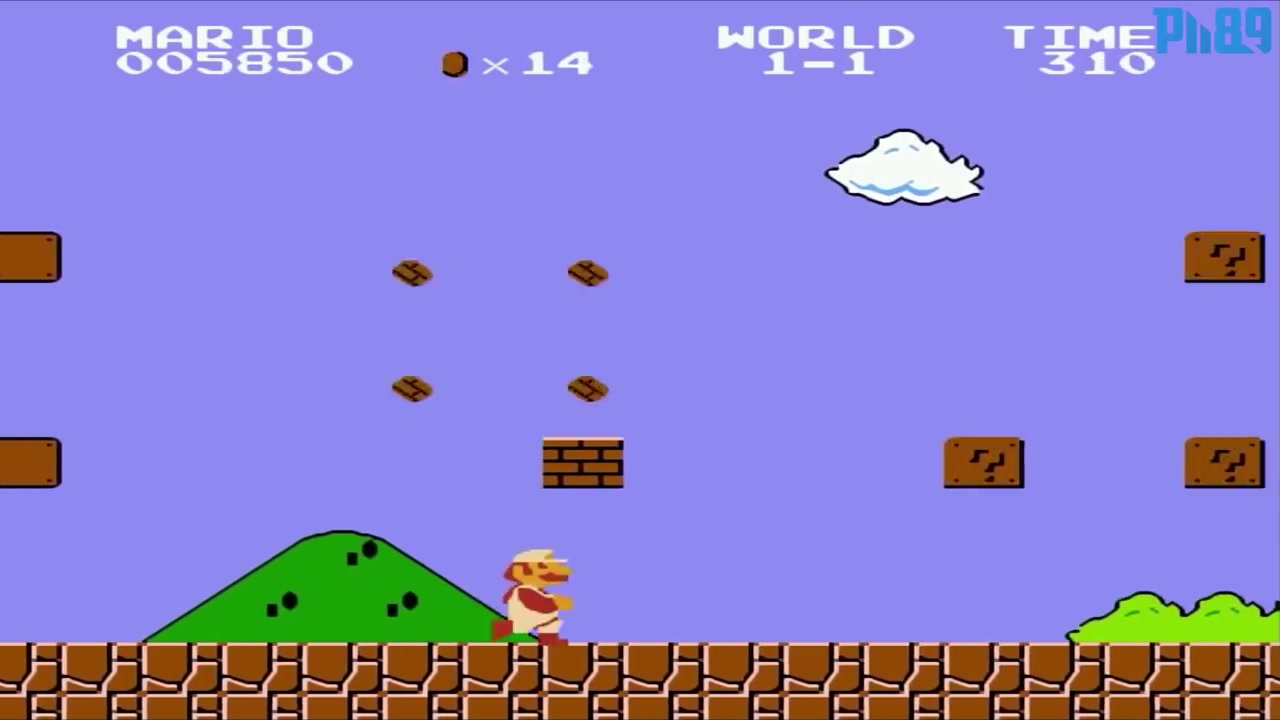mario: (485, 544, 582, 642)
